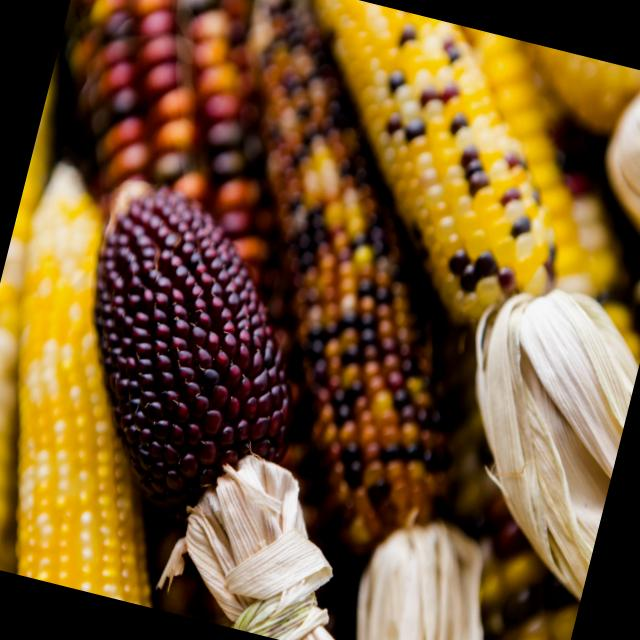corn: (255, 3, 464, 545), (14, 166, 160, 610)
